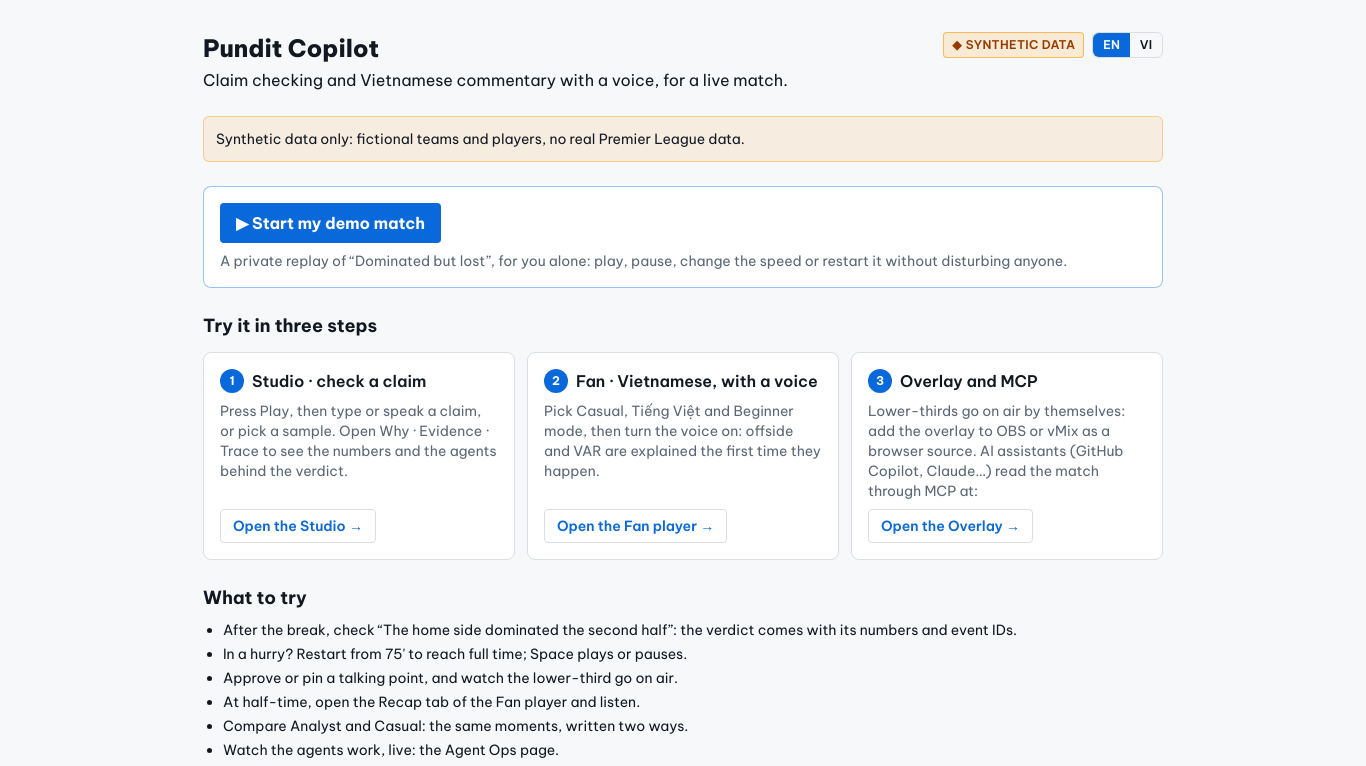
Test case: landing page › a 503 refusal says when to try again
The width and height of the screenshot is (1366, 766).
Click the button with test id "start-my-demo".
click(331, 223)  # box [220,203,441,243]
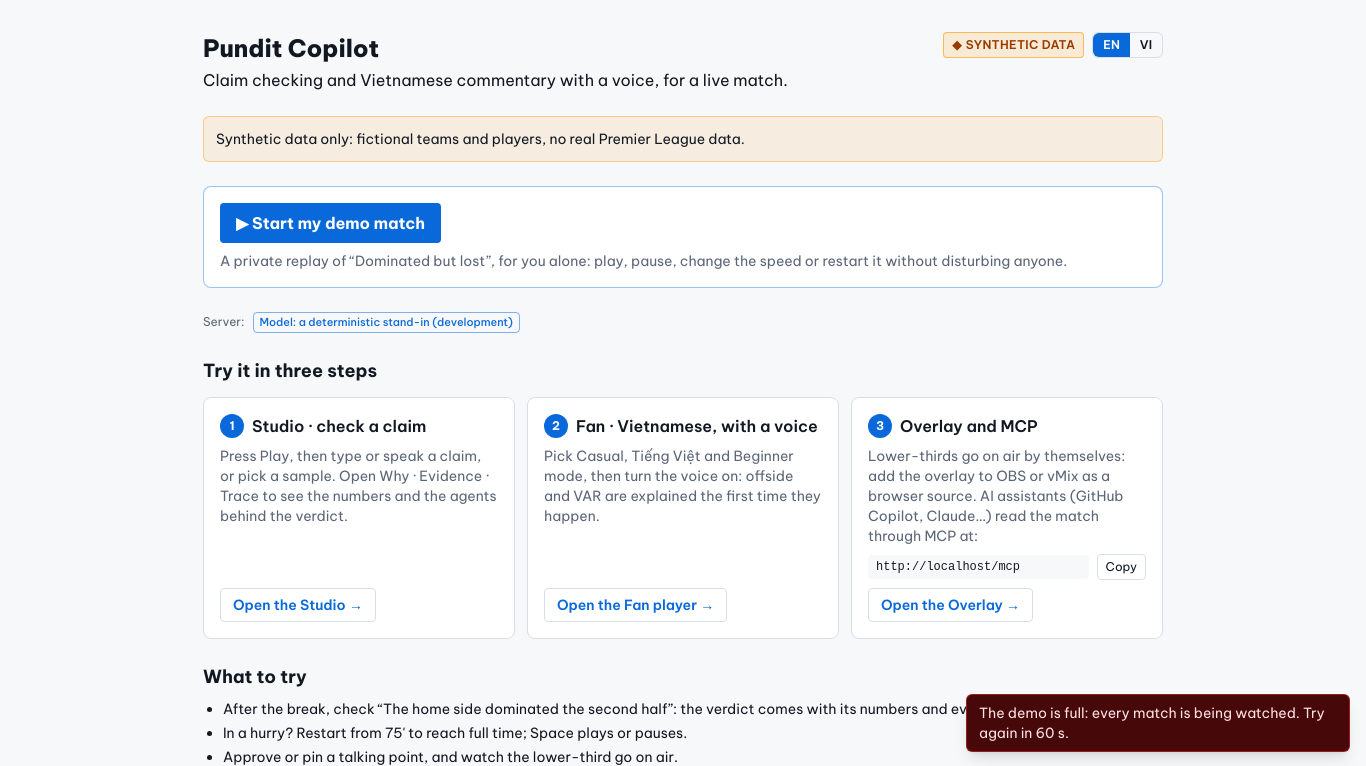
Now the text "The demo is full: every match is being watched. Try again in 60 s." is shown, box [966,694,1350,752]
